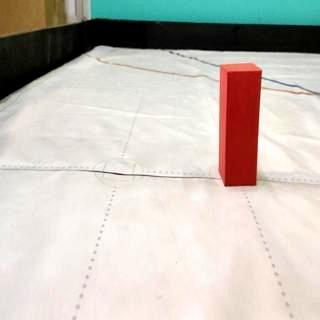redbox: (218, 61, 263, 188)
